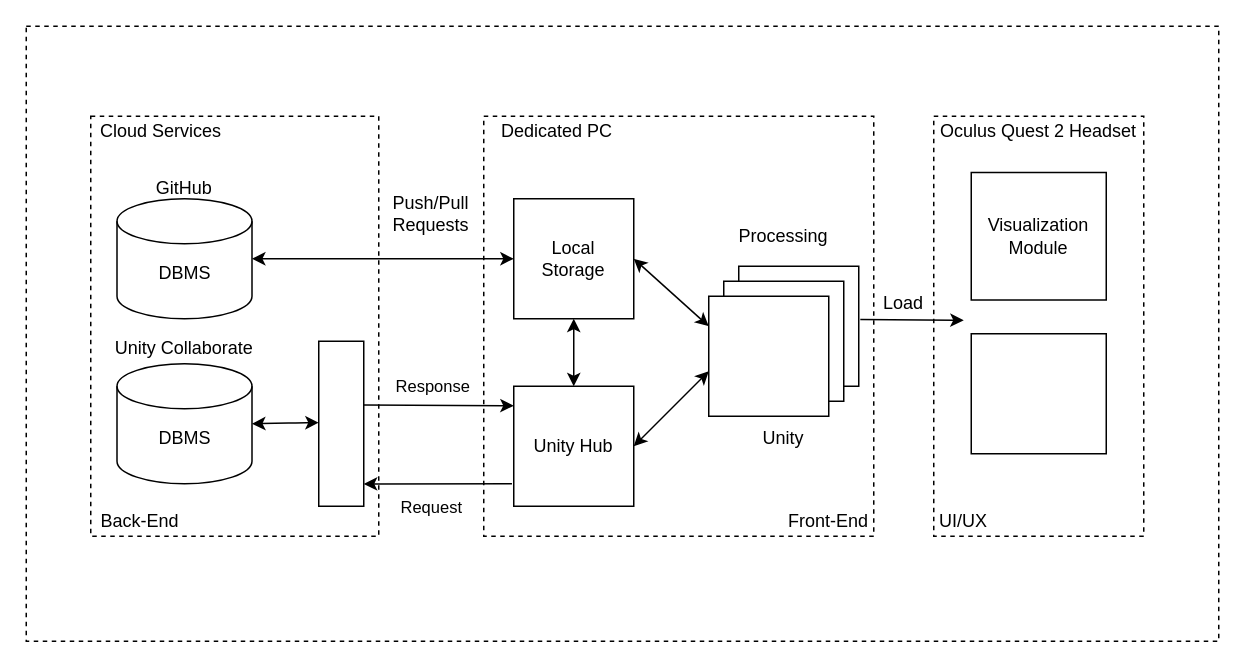
Some shapes in this 1245 by 668 pixel diagram are drawn without their labels. Each missing label, with the centre of its shape:
"Cloud Build" goes at pixel 340 423.
"Controller Module" goes at pixel 1038 393.
"Dedicated Program(s)" goes at pixel 768 355.
